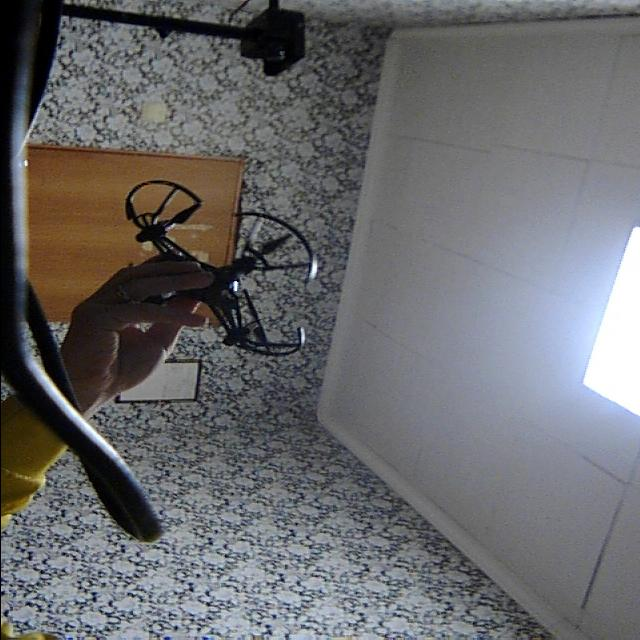drone: (90, 176, 330, 366)
